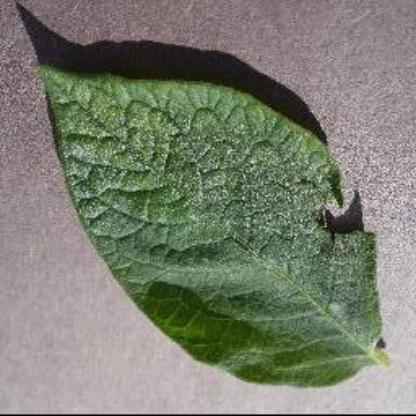Healthy-plant: (34, 57, 394, 395)
